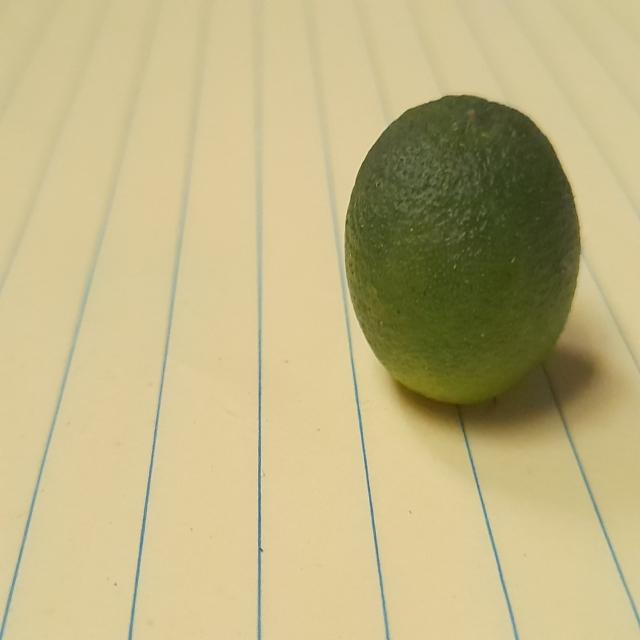heathy: (338, 82, 585, 406)
